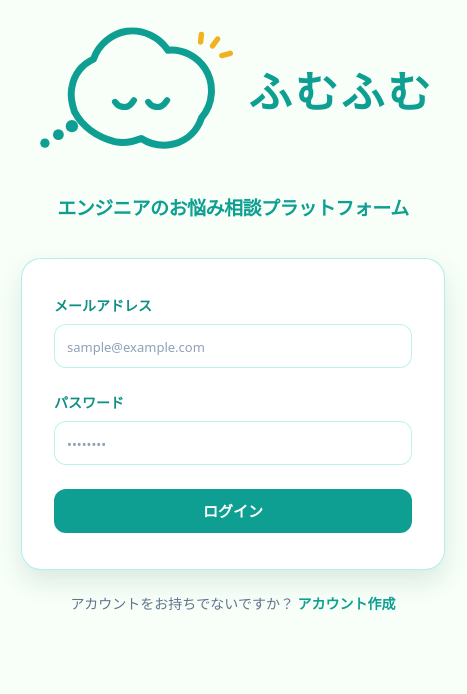
it: LoginForm アカウント無効化(#136) › signin が 403(account_disabled)で失敗したら無効化メッセージを表示する
In the field labelled "メールアドレス": {"x": 233, "y": 346} [54,324,412,368], type "banned@example.com"
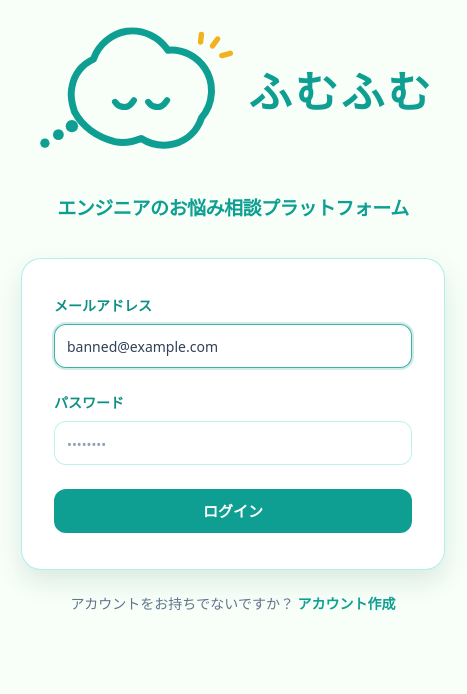
In the password field labelled "パスワード": {"x": 233, "y": 443} [54,421,412,465], type "password123456"
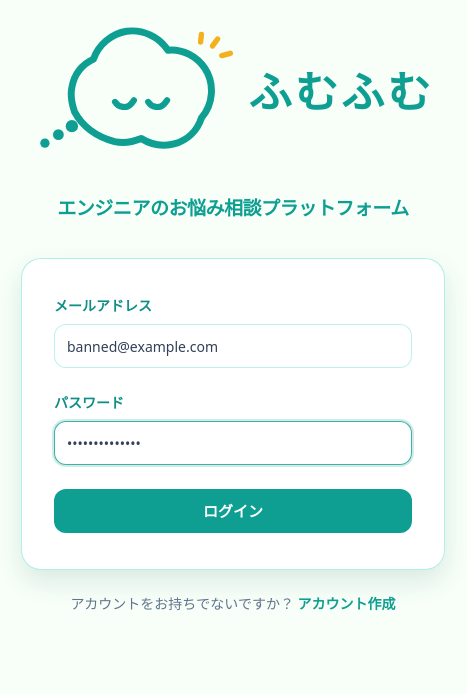
Click the button "ログイン": {"x": 233, "y": 511} [54,489,412,533]
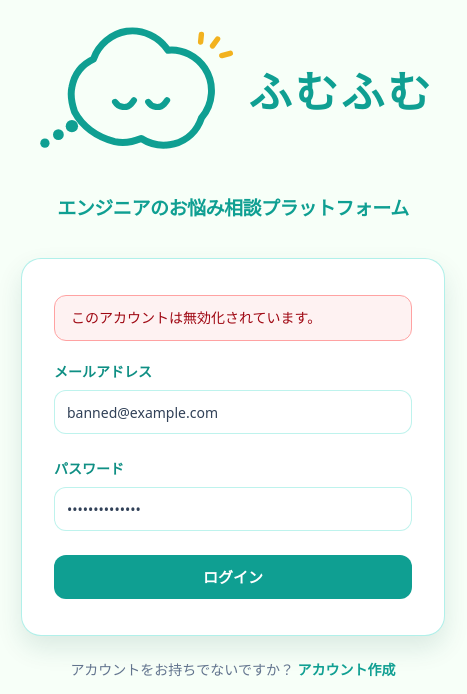
Now the text "このアカウントは無効化されています。" is shown, box [54,295,412,341]
